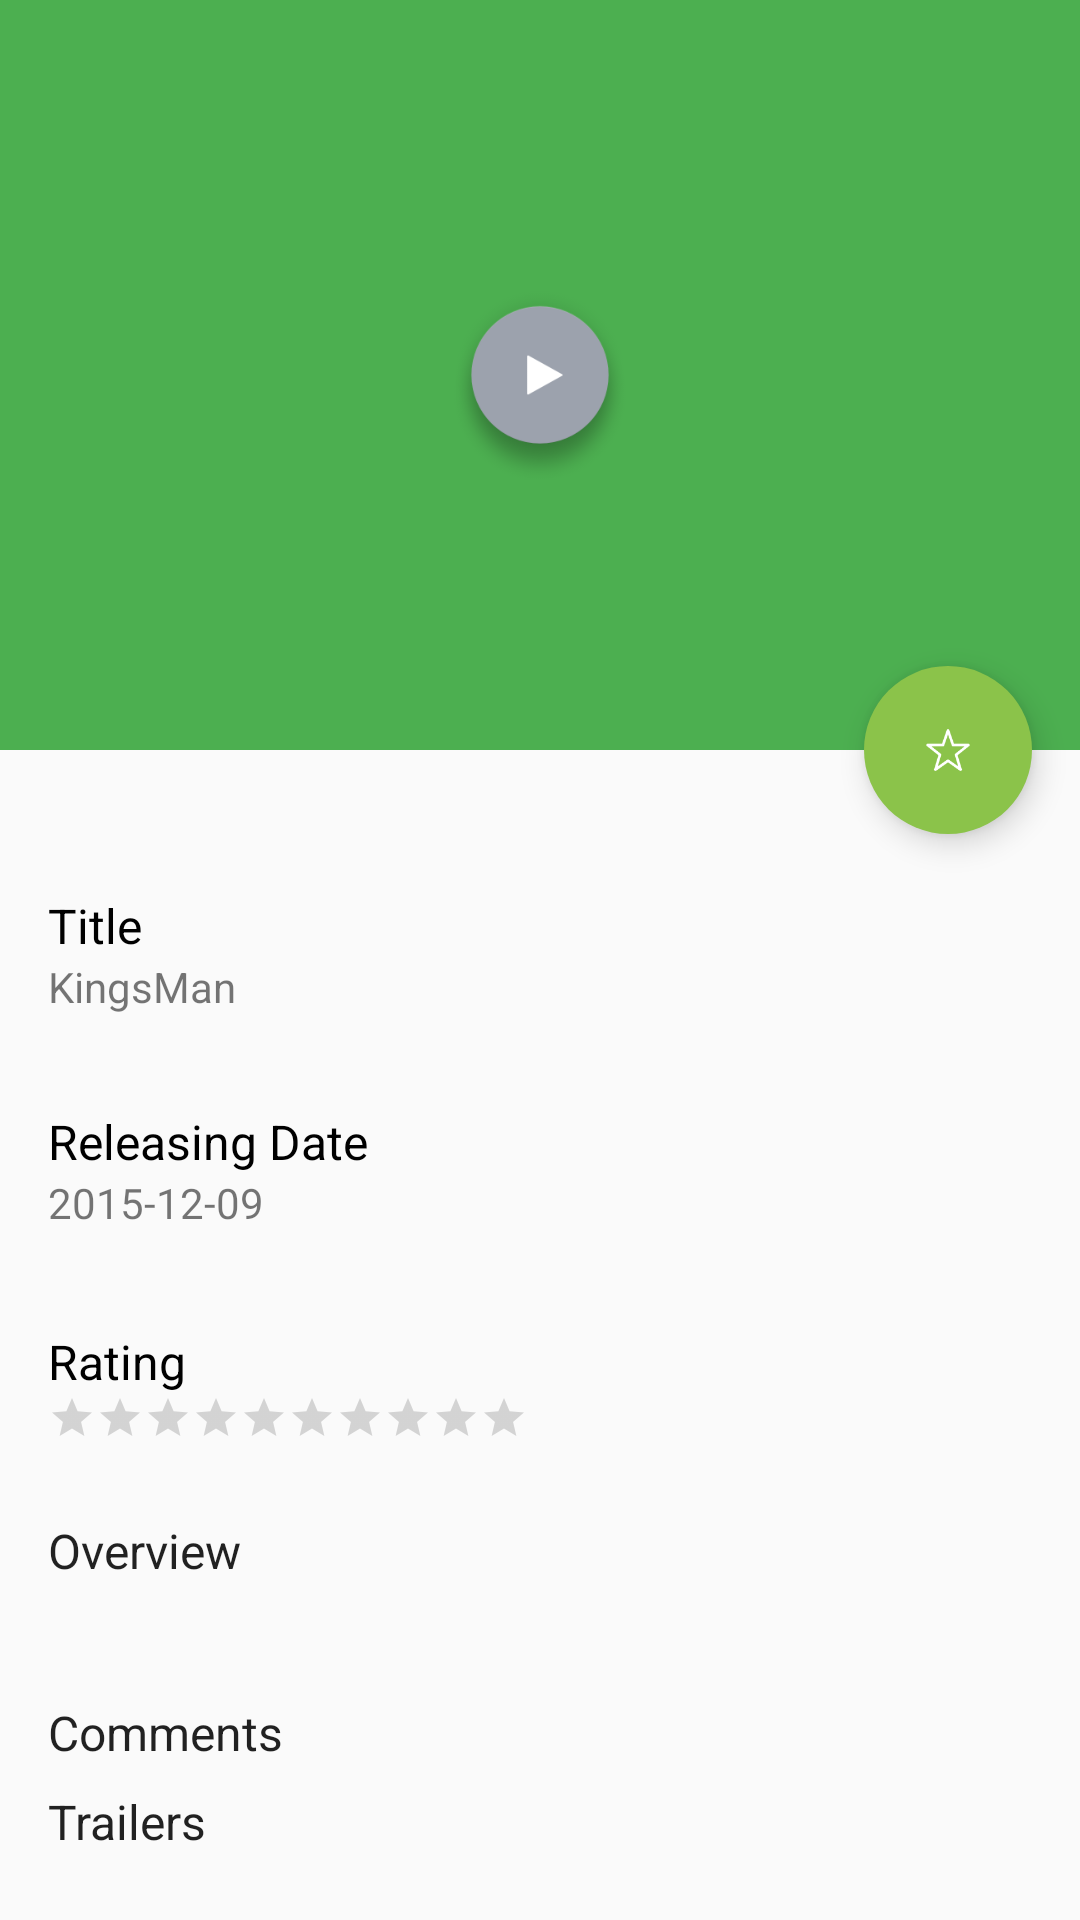

Locate icon controls on the screen. Image size 1080*1920, boxes as (x1, y1, x2, y2).
play: (470, 306, 610, 461)
